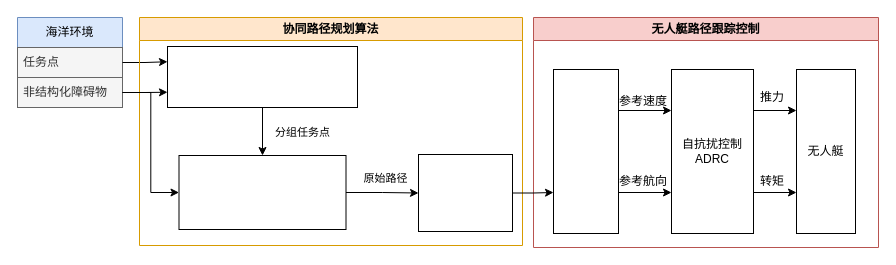
Some shapes in this 896 by 265 pixel diagram are drawn without their labels. Each missing label, with the centre of its shape:
"改进自组织神经网络 路径规划" goes at point 262,192.
"构建图 通过聚类算法进行任务分配" goes at point 262,77.
"样条法 平滑路径" goes at point 465,193.
"路径导引" goes at point 585,151.
